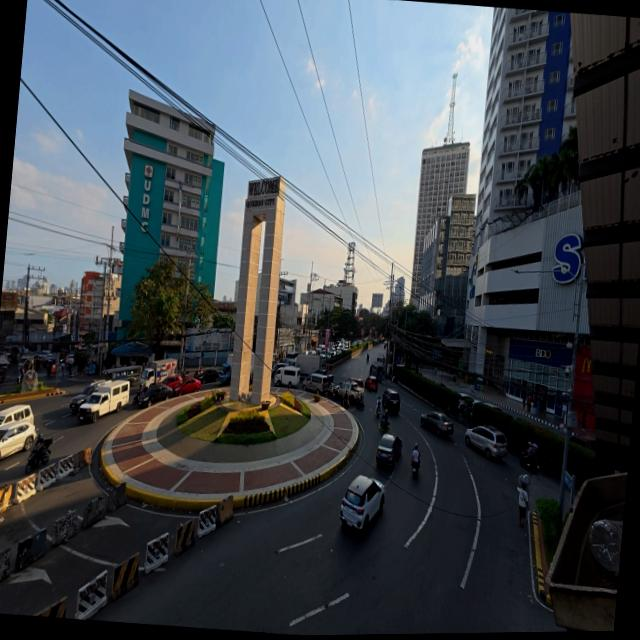car: (337, 473, 386, 535), (464, 422, 509, 460), (416, 411, 456, 439), (374, 433, 404, 470)
